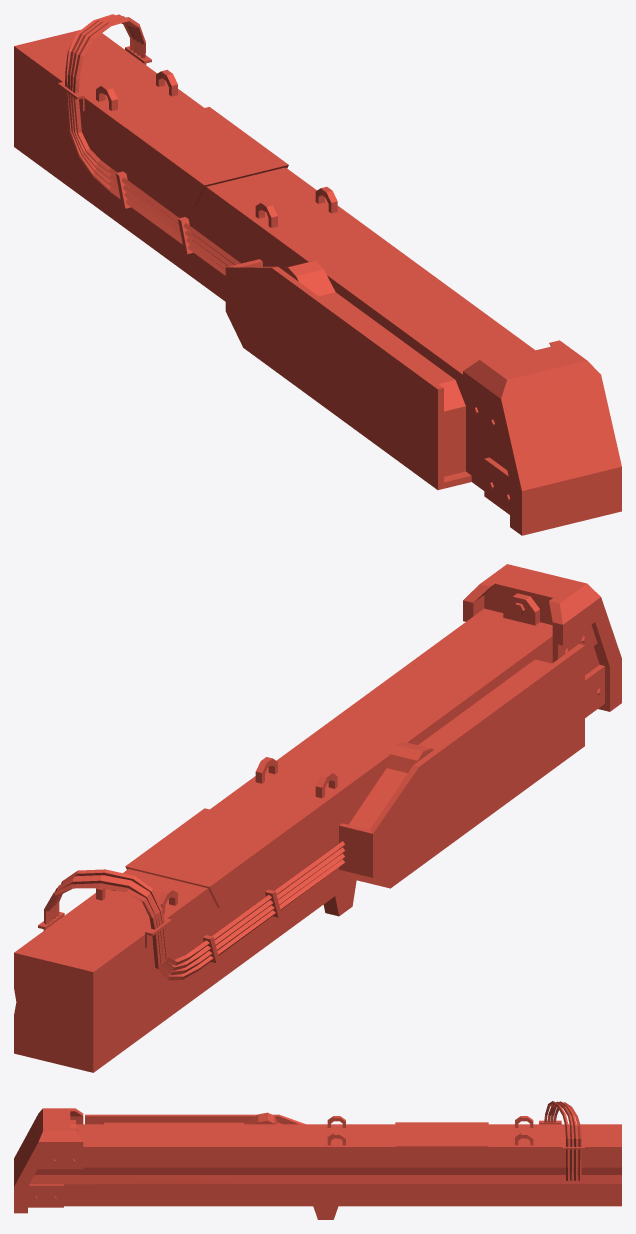
Rendered from SM_Telehandler_Arm_A.fbx.
3 renders of one model, top to bottom at view 1: azimuth 30°, elevation 25°; view 2: azimuth 150°, elevation 25°; view 3: azimuth 270°, elevation 25°, orthographic. The views are drawn at different scales.
Visible parts, largest first — view 1: SM_Telehandler_Arm_A; view 2: SM_Telehandler_Arm_A; view 3: SM_Telehandler_Arm_A.
Part boxes in pixels (x1,y1,x2,y2): SM_Telehandler_Arm_A: (14,14,621,535); SM_Telehandler_Arm_A: (14,564,621,1072); SM_Telehandler_Arm_A: (14,1101,621,1219).
Size of the model in its own units: 447 by 61.55 by 84.28.
